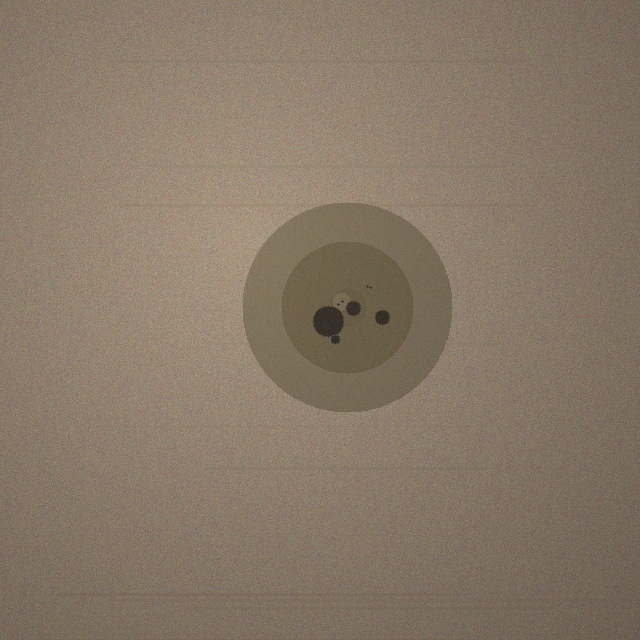shrinkage: (242, 202, 452, 412)
